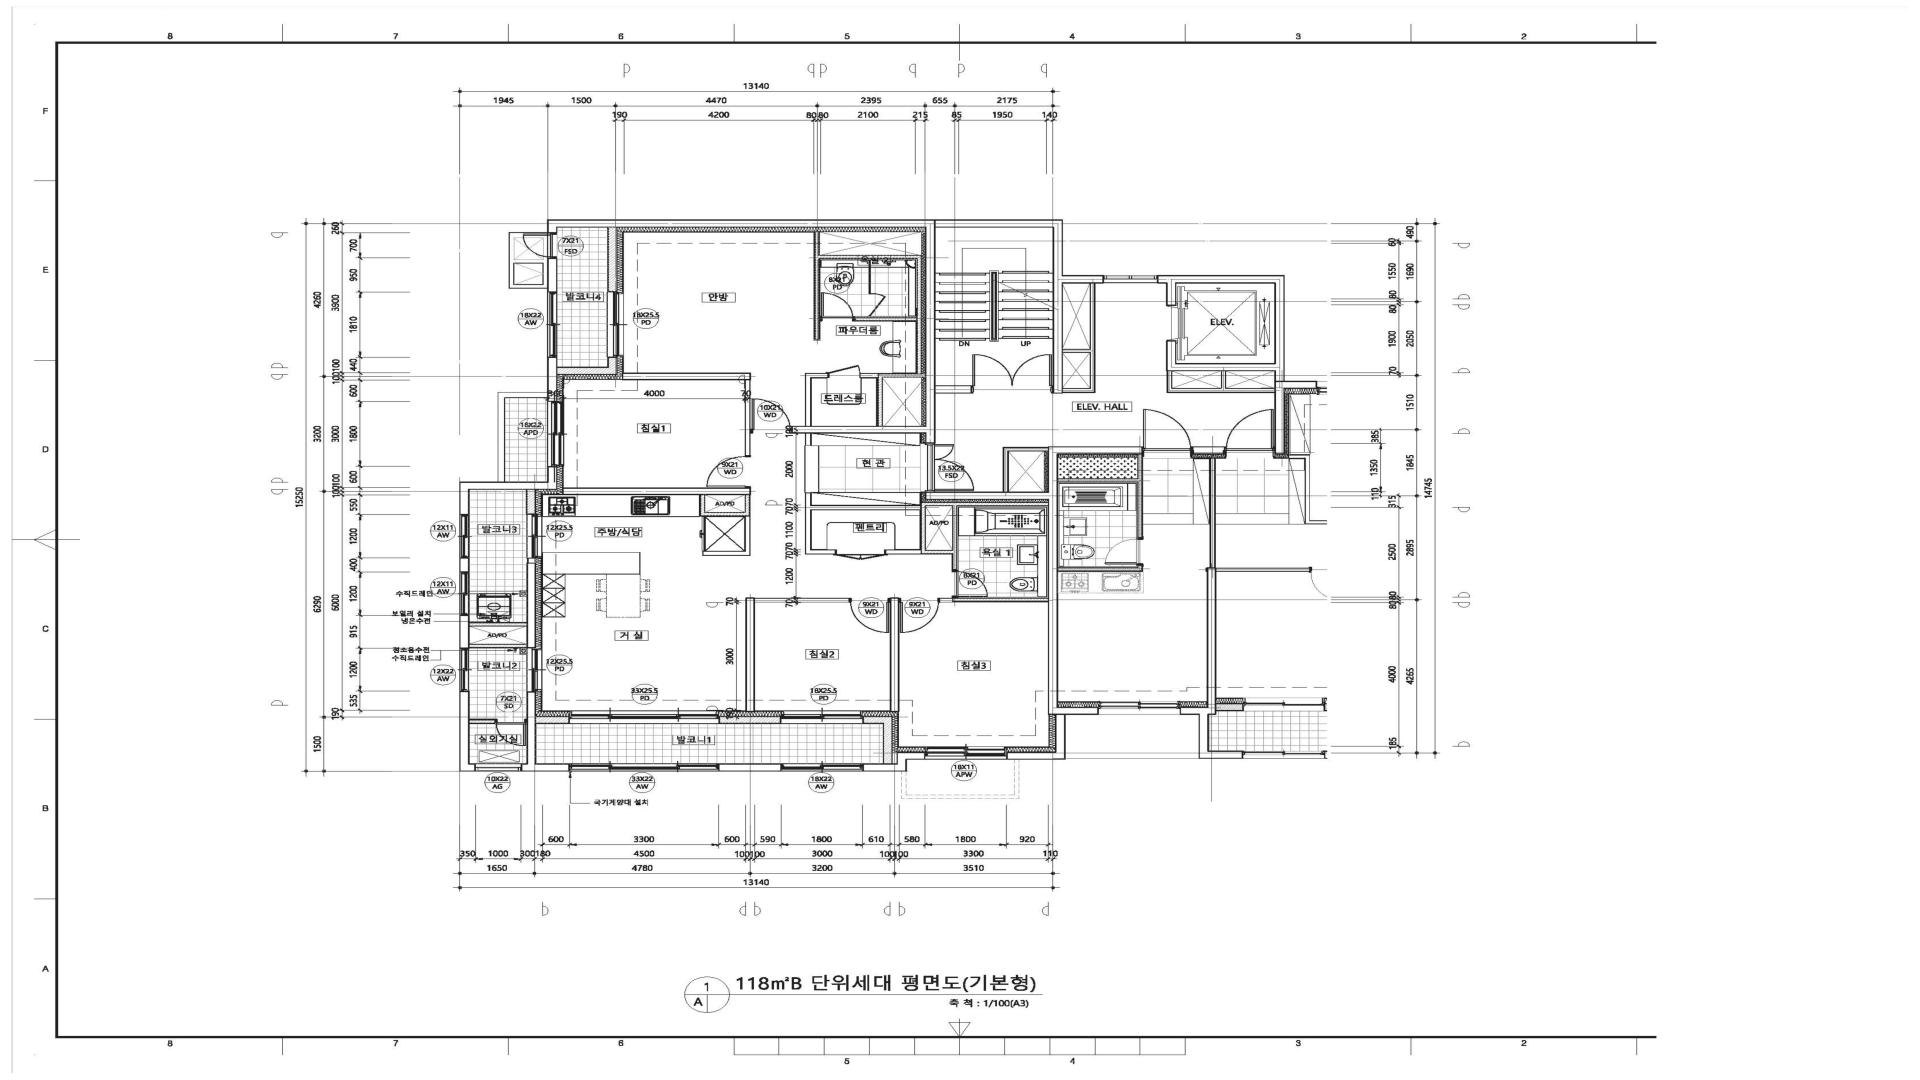door: (971, 353, 1052, 393), (924, 443, 975, 492), (705, 455, 752, 488), (899, 597, 940, 634), (750, 398, 793, 434), (848, 597, 890, 633), (952, 568, 988, 597), (820, 293, 855, 322), (495, 719, 526, 746), (522, 233, 556, 258), (827, 364, 861, 378), (868, 293, 886, 316)
wall: (547, 219, 926, 228), (1048, 447, 1059, 715), (926, 219, 935, 443), (1052, 228, 1063, 393), (563, 488, 752, 496), (745, 597, 756, 711), (935, 219, 1063, 228), (1158, 274, 1284, 284), (793, 426, 926, 434), (890, 597, 899, 711), (1274, 284, 1284, 381), (622, 372, 752, 380), (924, 492, 1048, 500), (1166, 363, 1274, 371), (459, 692, 469, 771), (526, 563, 535, 649), (1274, 381, 1284, 455), (526, 692, 537, 764), (1089, 284, 1096, 393), (814, 232, 820, 340), (459, 481, 547, 489), (608, 228, 617, 293), (812, 505, 920, 510), (1167, 388, 1274, 393), (1059, 447, 1142, 454), (952, 597, 1048, 603), (920, 502, 1048, 506), (804, 492, 812, 555), (719, 716, 781, 724), (756, 597, 848, 603), (720, 764, 781, 771), (547, 357, 558, 402), (558, 367, 617, 375), (1006, 752, 1065, 760), (916, 258, 920, 375), (820, 255, 922, 258), (745, 380, 750, 455), (1055, 715, 1065, 752), (804, 378, 812, 426), (521, 764, 568, 771), (884, 724, 893, 764), (547, 258, 558, 291), (864, 764, 907, 771), (952, 506, 957, 570), (459, 616, 469, 647), (1063, 276, 1104, 284), (919, 506, 926, 554), (469, 644, 526, 649), (1002, 447, 1009, 492), (935, 385, 971, 393), (535, 716, 570, 724), (459, 489, 469, 514), (744, 517, 750, 556), (862, 716, 893, 724), (705, 512, 750, 517), (1166, 340, 1176, 363), (1166, 284, 1176, 306), (547, 467, 558, 489), (526, 489, 535, 514), (469, 622, 526, 626), (897, 752, 924, 760), (703, 551, 744, 556), (1193, 447, 1224, 454), (878, 377, 882, 426), (878, 373, 926, 377), (1009, 447, 1048, 451), (699, 495, 705, 517), (884, 550, 920, 554), (1063, 388, 1089, 393), (469, 719, 495, 724), (459, 559, 469, 571), (804, 373, 827, 378), (1166, 371, 1172, 388), (1063, 349, 1089, 353), (926, 550, 952, 554), (812, 550, 837, 554), (1221, 371, 1226, 388), (745, 495, 750, 512), (868, 260, 870, 293), (608, 357, 617, 367), (861, 373, 878, 377), (804, 434, 810, 446), (940, 597, 952, 603), (469, 764, 476, 771), (547, 228, 556, 233), (527, 558, 535, 563), (897, 760, 907, 764)
window: (570, 711, 719, 724), (568, 764, 720, 771), (607, 291, 624, 357), (547, 402, 564, 467), (924, 746, 1006, 760), (781, 711, 862, 724), (526, 649, 543, 691), (547, 291, 558, 357), (526, 514, 542, 558), (781, 764, 864, 771), (459, 514, 469, 559), (459, 571, 469, 616), (459, 647, 469, 692), (1104, 276, 1158, 284), (476, 764, 521, 771)
